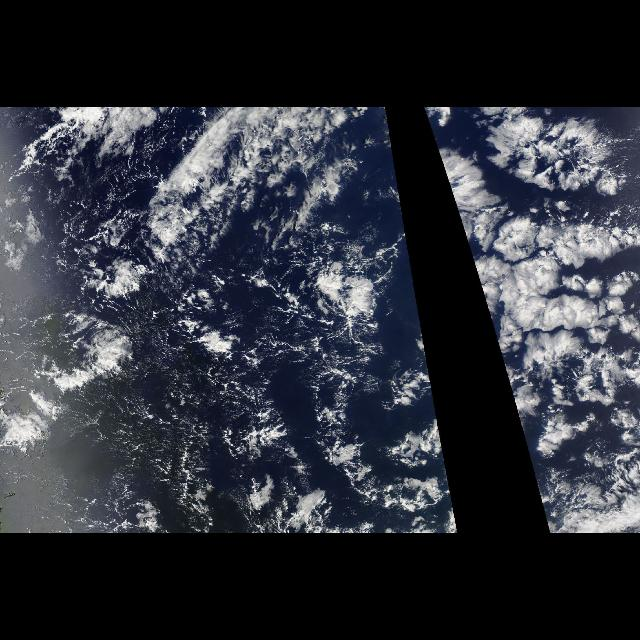Fish: (115, 108, 453, 508)
Flower: (446, 146, 640, 474)
Gravel: (102, 276, 320, 528)
Sugar: (70, 401, 184, 477)
